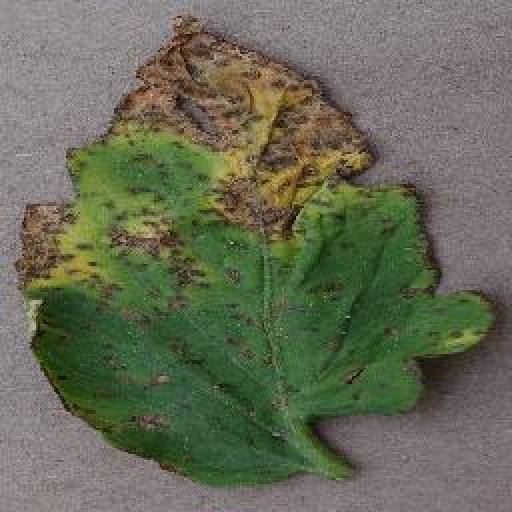Bacterial Spot: (16, 8, 500, 491)
